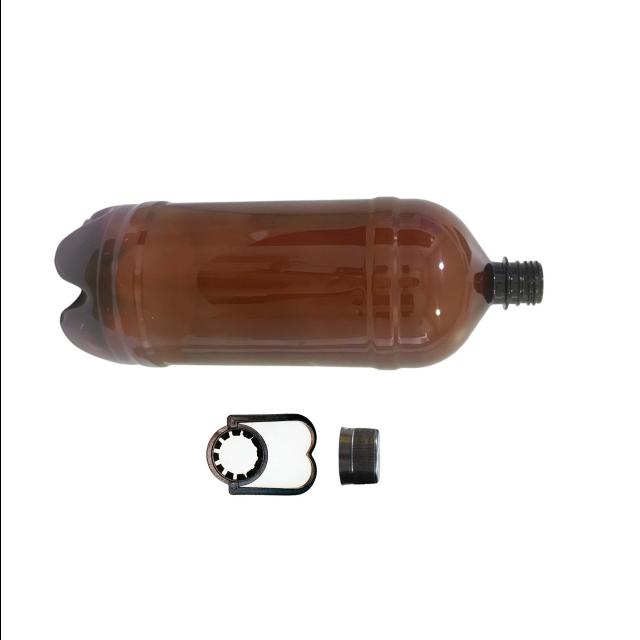bottom: (41, 186, 150, 382)
cap: (330, 418, 390, 492)
no_cap: (474, 233, 552, 317)
